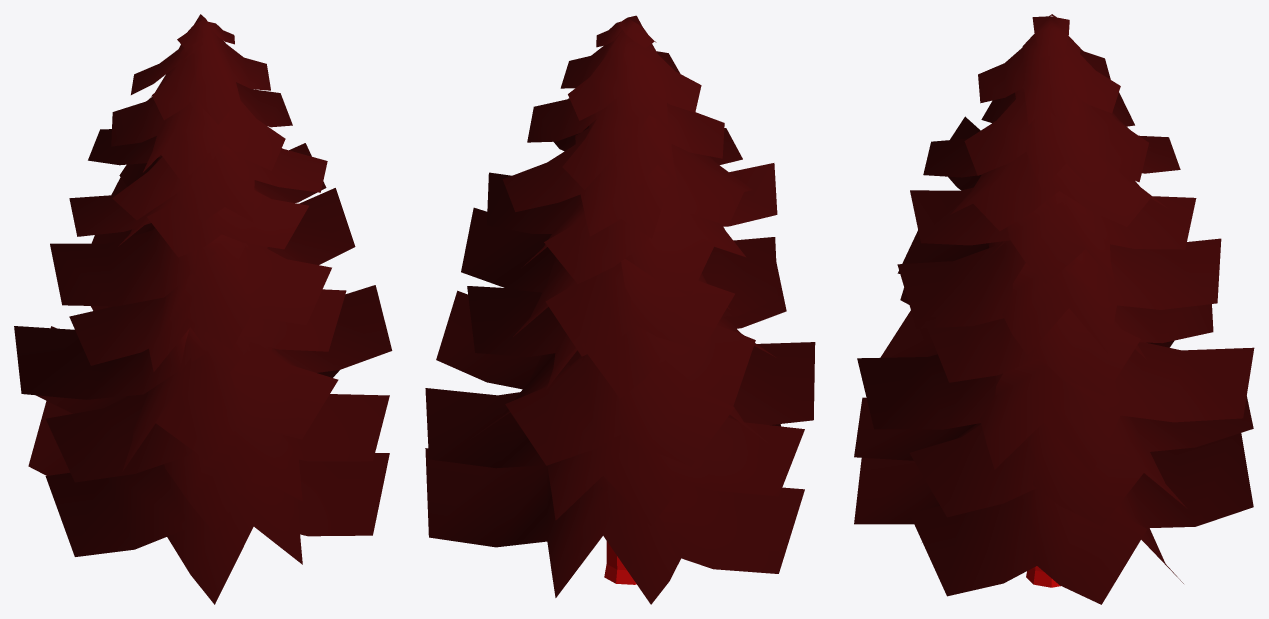
The model's file is SM_Tree_Pine_02.gltf.
3 renders of one model, left to right at view 1: azimuth 30°, elevation 25°; view 2: azimuth 150°, elevation 25°; view 3: azimuth 270°, elevation 25°, orthographic. The views are drawn at different scales.
Visible parts, largest first — view 1: SM_Tree_Pine_02; view 2: SM_Tree_Pine_02; view 3: SM_Tree_Pine_02.
Part boxes in pixels (bbox=[...]): SM_Tree_Pine_02: bbox=[14, 14, 392, 604]; SM_Tree_Pine_02: bbox=[425, 15, 815, 604]; SM_Tree_Pine_02: bbox=[854, 14, 1254, 604].
Size of the model in its own units: 2.99 by 4.59 by 3.
